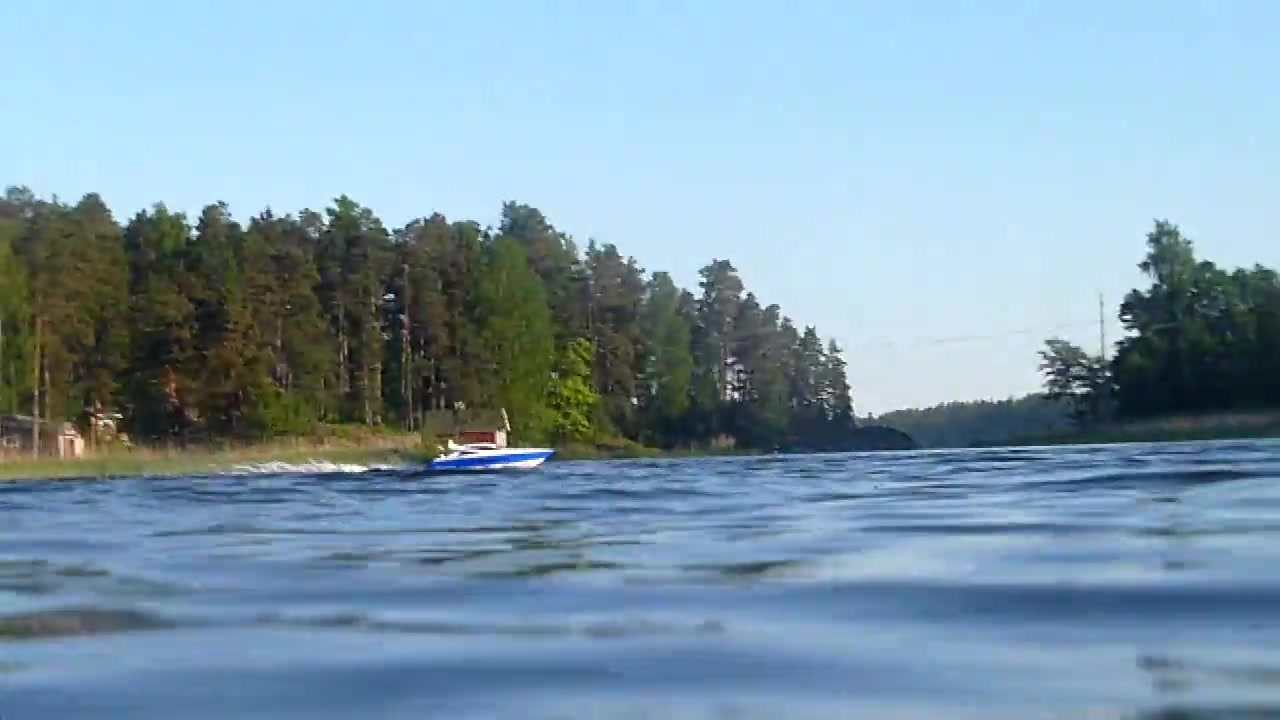boat: (433, 438, 555, 474)
